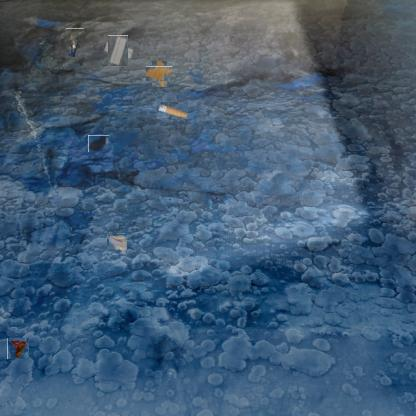dirty: (106, 38, 131, 63), (156, 101, 188, 119), (66, 28, 84, 57), (7, 338, 29, 359), (107, 233, 128, 255)
liquid: (149, 64, 170, 84), (88, 135, 109, 152)
